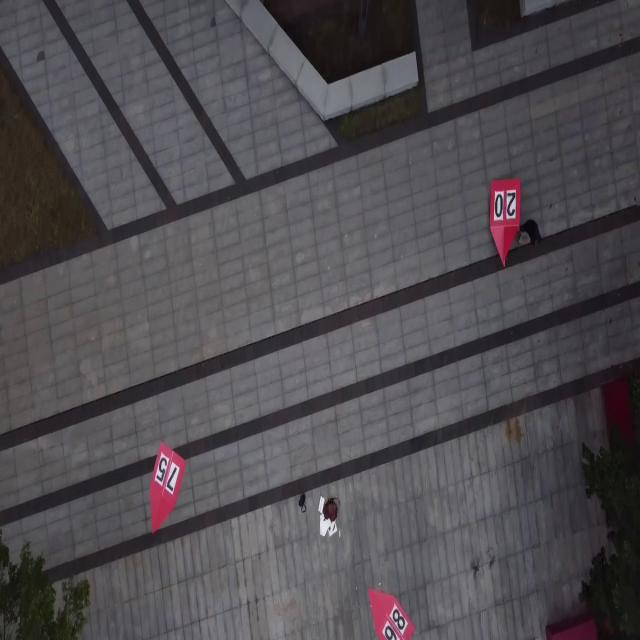-sign-: (143, 441, 188, 543), (489, 177, 521, 268)
